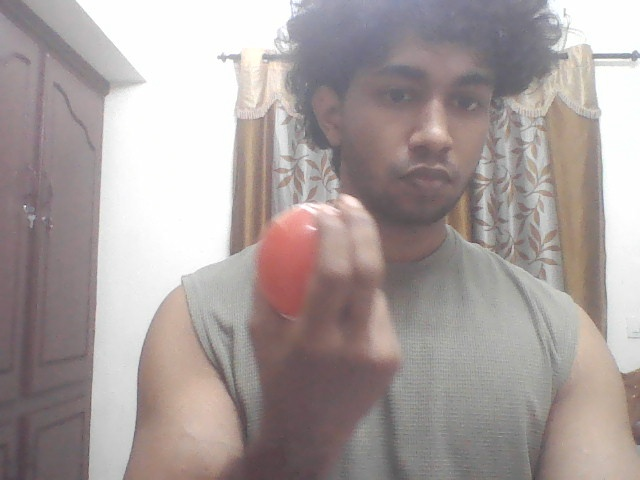cricket_ball: (255, 202, 327, 321)
